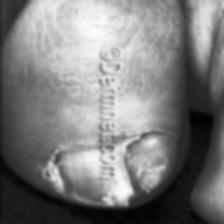Unclassified: (122, 127, 174, 193)
